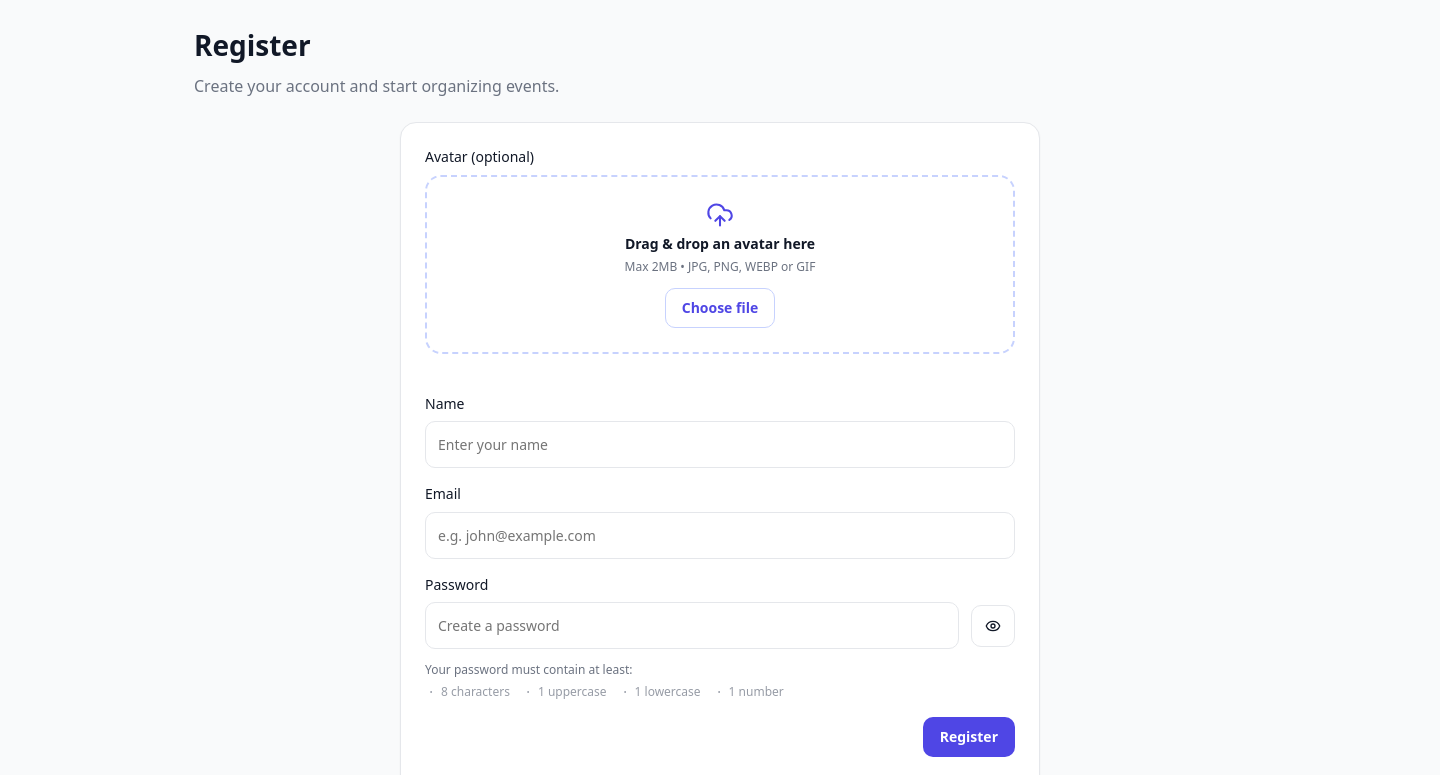
Scenario: RegisterPage › shows error message when register fails
Step 1. Type "John Doe" into the field labelled "Name" → {"x": 720, "y": 445}, box [425,421,1015,468]
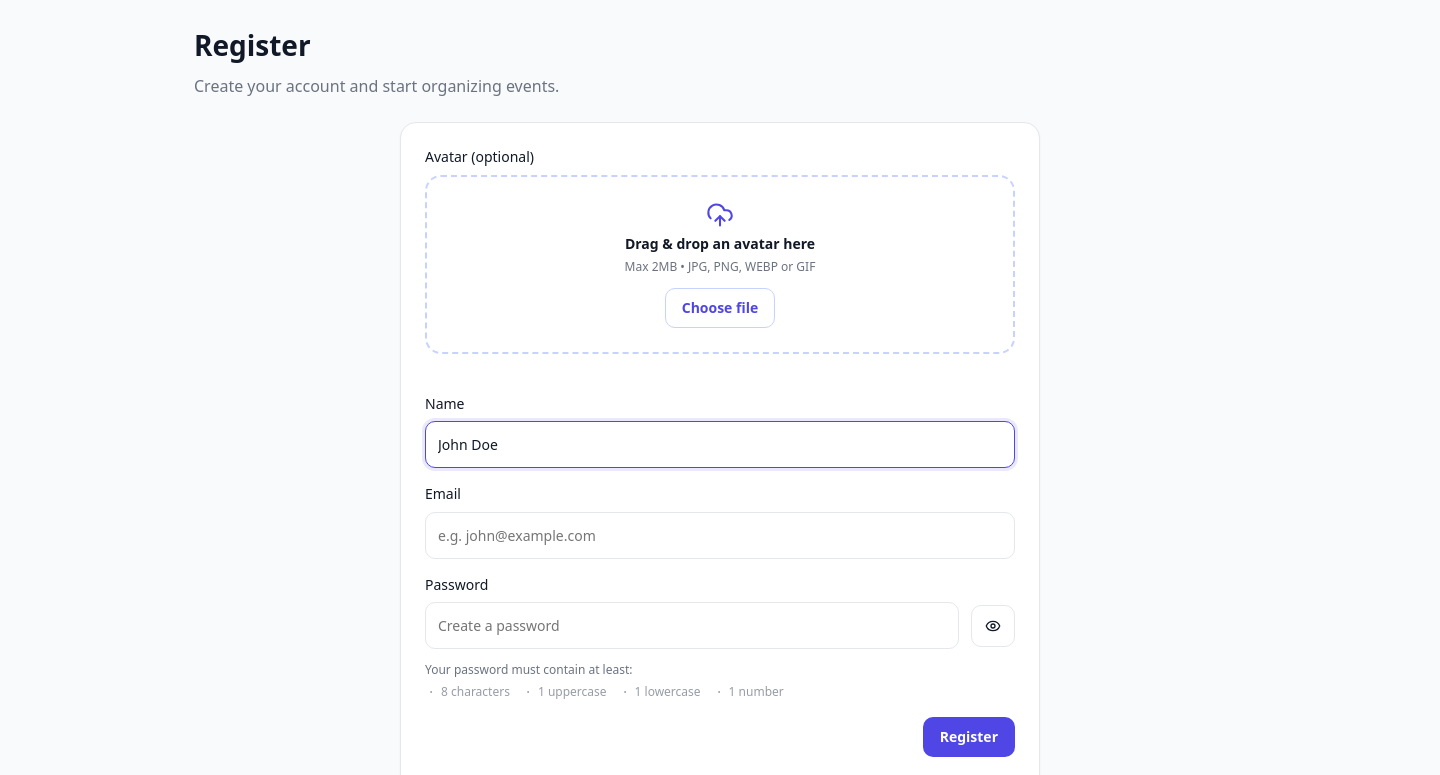
Step 2. Type "john@test.com" into the field labelled "Email" → {"x": 720, "y": 535}, box [425,512,1015,559]
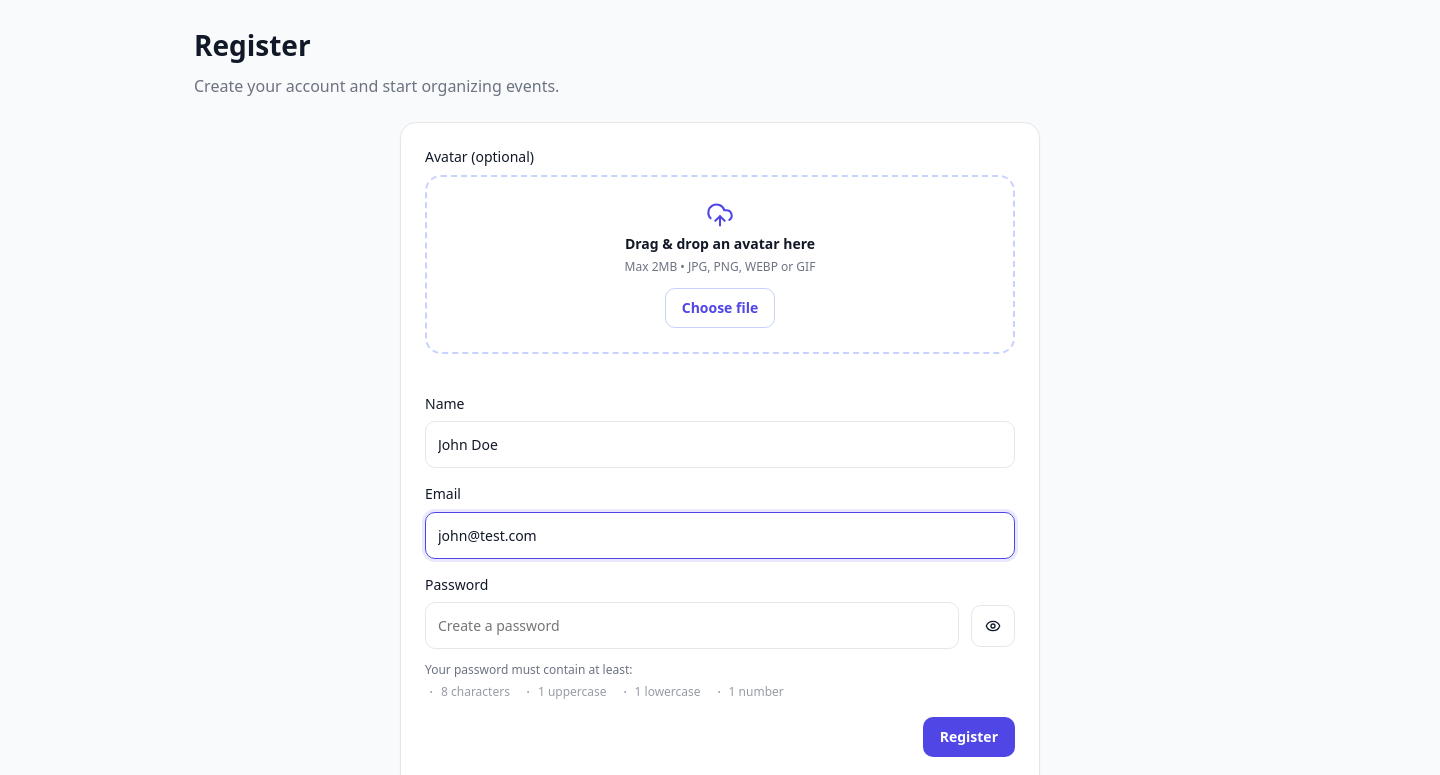
Step 3. Type "Password123" into the password field labelled "Password" → {"x": 692, "y": 626}, box [425,602,959,649]
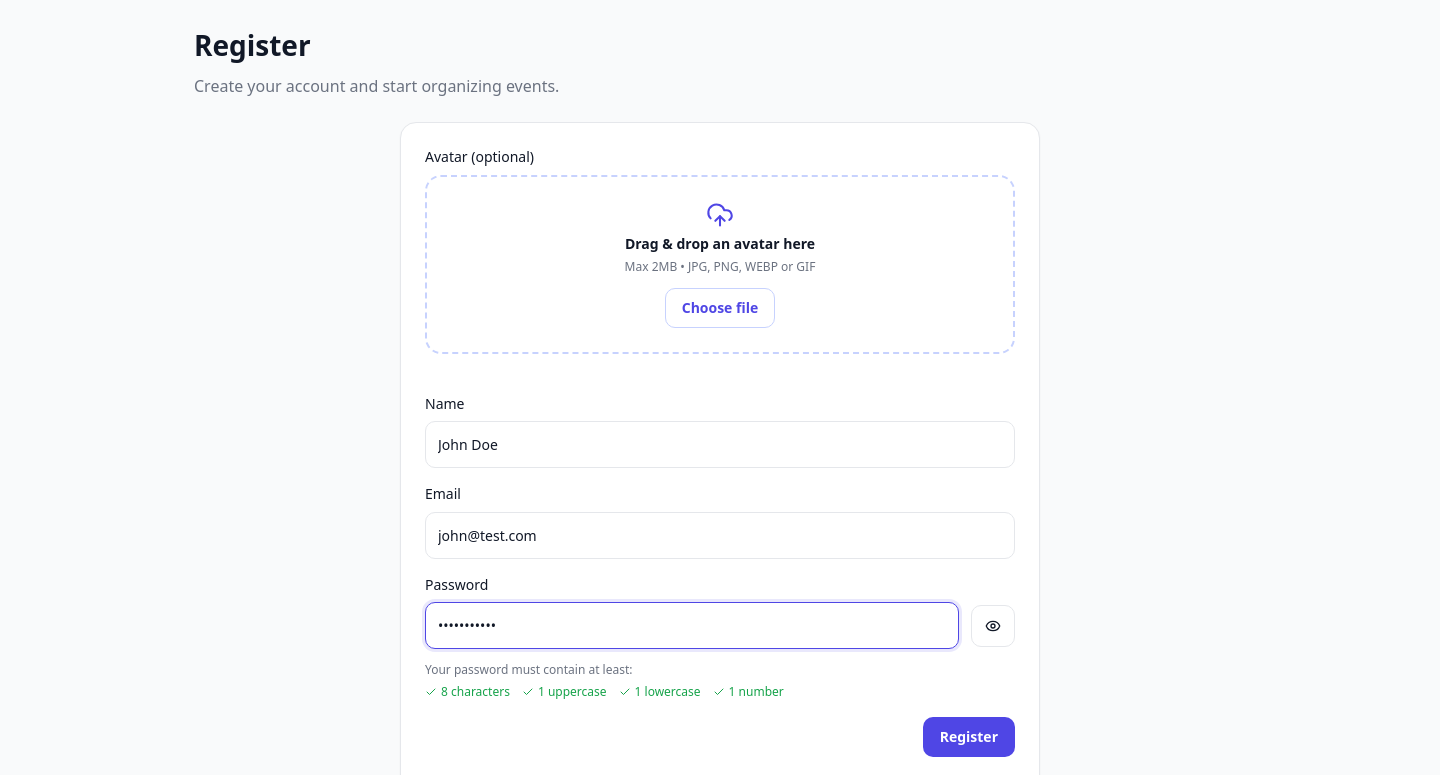
Step 4. Click the button "Register" → {"x": 969, "y": 737}, box [923,717,1015,757]
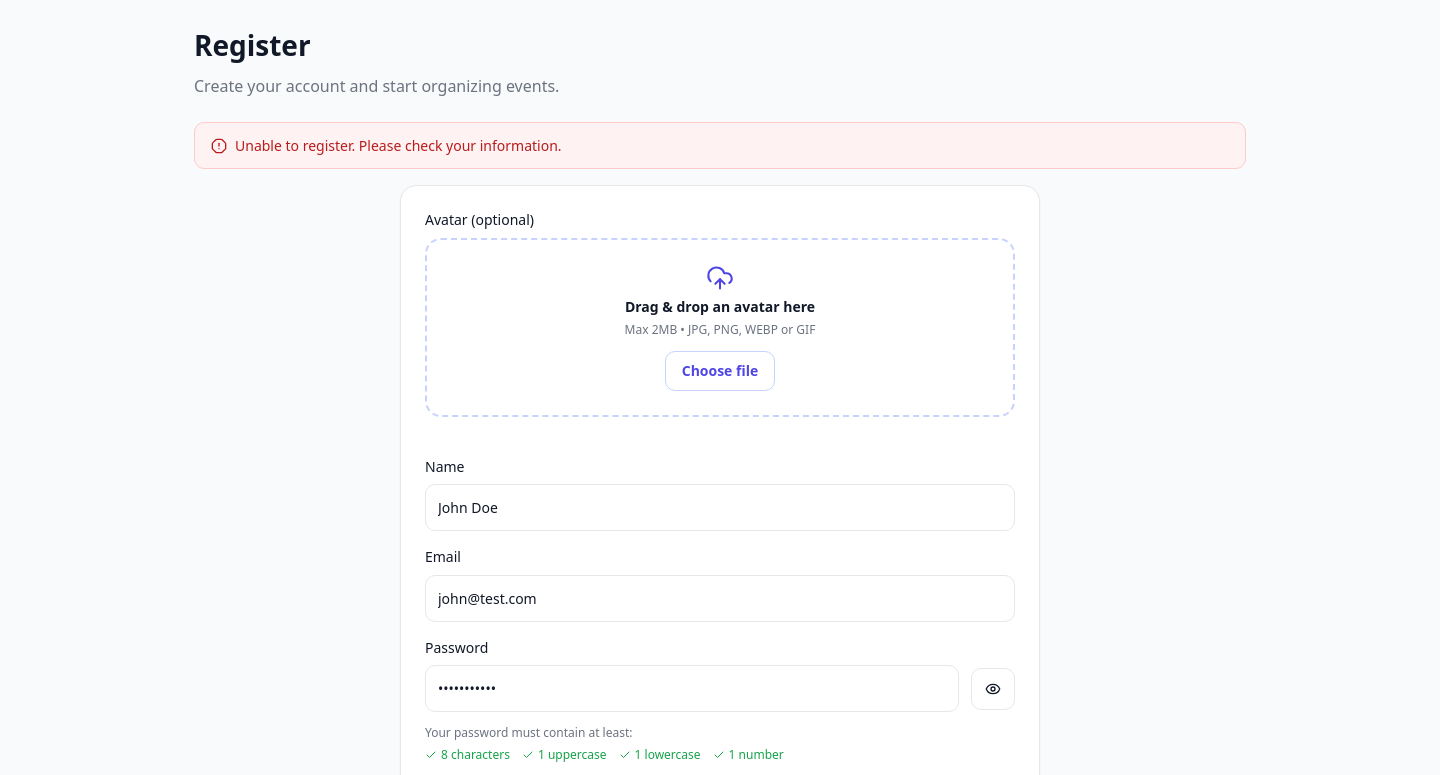
Expected: the text "Unable to register. Please check your information." is shown, [235,136,562,155]
